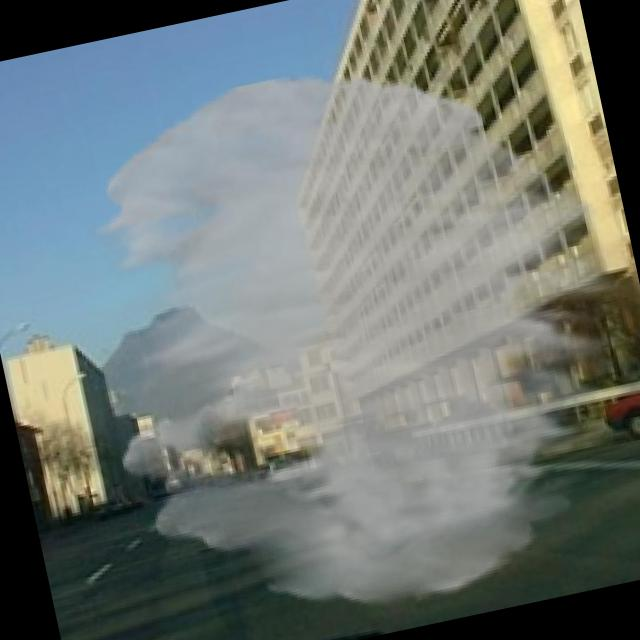Smoke: (51, 19, 640, 640)
